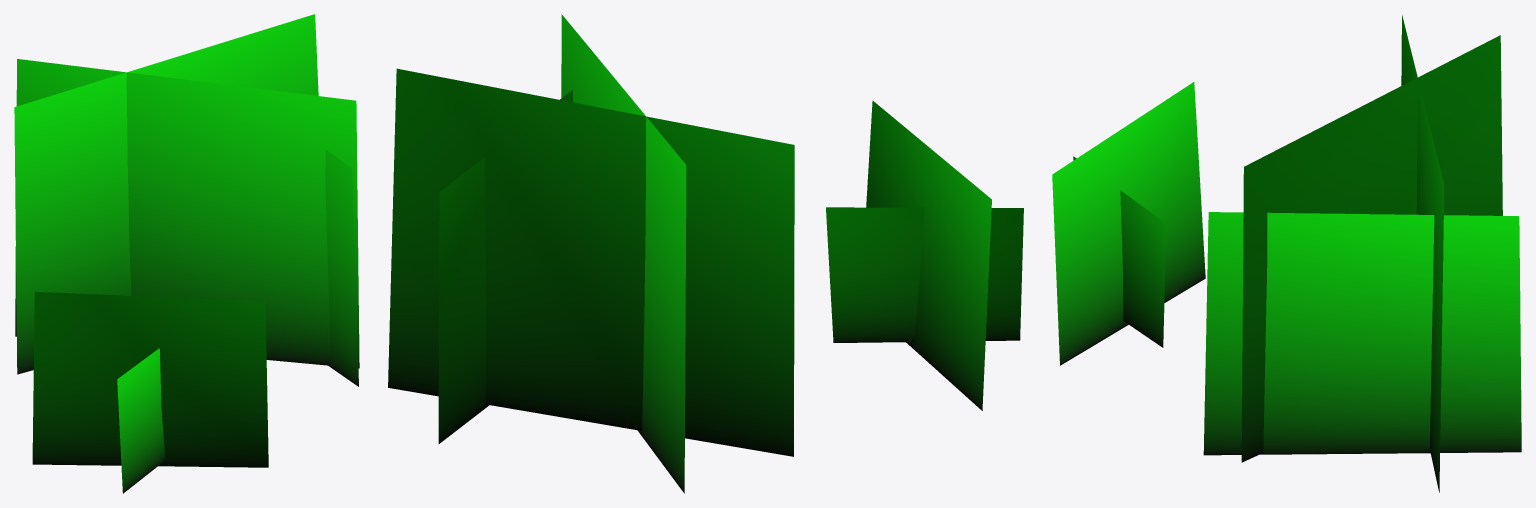
The model's file is Grass_Size03.fbx.
3 renders of one model, left to right at view 1: azimuth 30°, elevation 25°; view 2: azimuth 150°, elevation 25°; view 3: azimuth 270°, elevation 25°, orthographic. The views are drawn at different scales.
Parts seen in each view (by area): view 1: PP_grass_04; view 2: PP_grass_04; view 3: PP_grass_04.
Boxes of the visible parts, x1,y1,x2,y2 form: PP_grass_04: (14, 14, 359, 493); PP_grass_04: (388, 14, 1023, 493); PP_grass_04: (1052, 15, 1521, 492).
Bounding box in the file's own units: 59.28 × 39.37 × 54.24.
